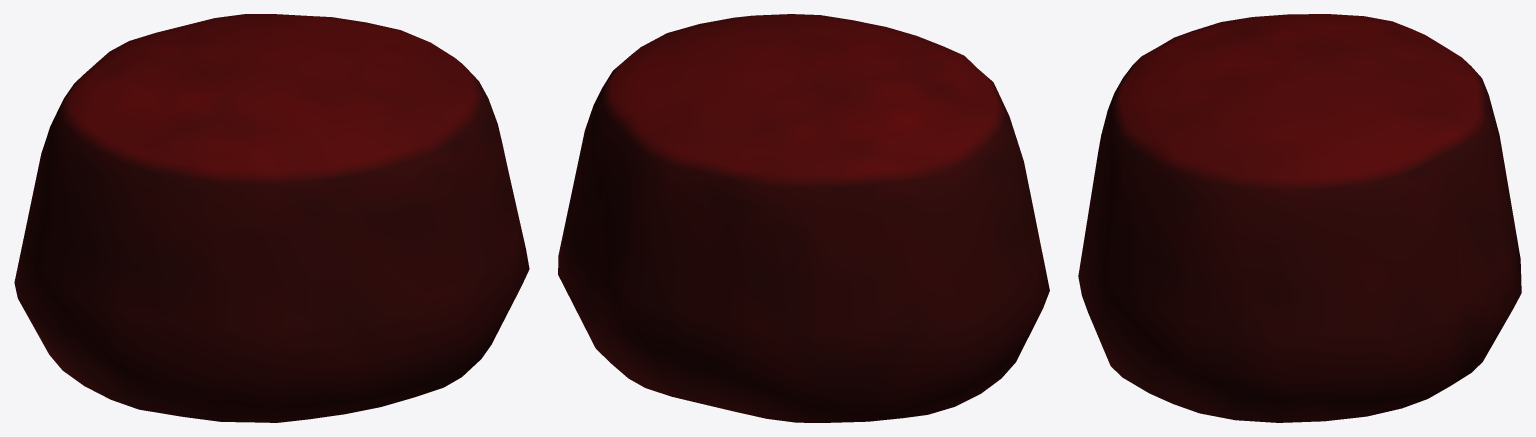
The model's file is geology-landforms-greenhillmedium_v1.fbx.
3 views of the same model, side by side, from view 1: azimuth 30°, elevation 25°; view 2: azimuth 150°, elevation 25°; view 3: azimuth 270°, elevation 25° (orthographic). The views are drawn at different scales.
Visible parts, largest first — view 1: GreenHillMedium_v1; view 2: GreenHillMedium_v1; view 3: GreenHillMedium_v1.
Part boxes in pixels (<box>): GreenHillMedium_v1: <box>14,14,529,422</box>; GreenHillMedium_v1: <box>558,14,1049,422</box>; GreenHillMedium_v1: <box>1078,14,1521,422</box>.
Bounding box in the file's own units: 30.63 × 17.4 × 27.13.
